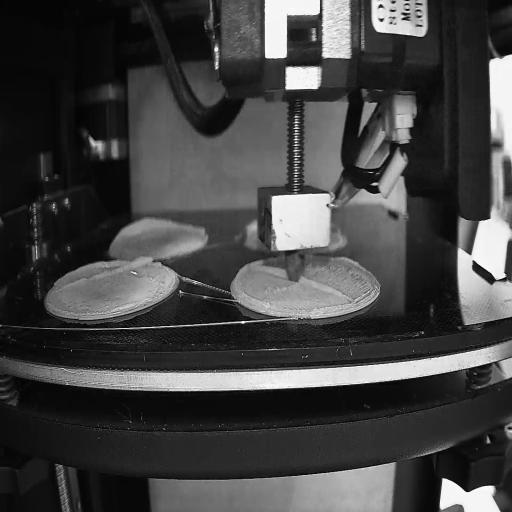over_extrusion: (111, 216, 206, 250), (62, 256, 152, 290), (300, 273, 349, 300), (250, 260, 288, 282), (246, 217, 258, 235)
